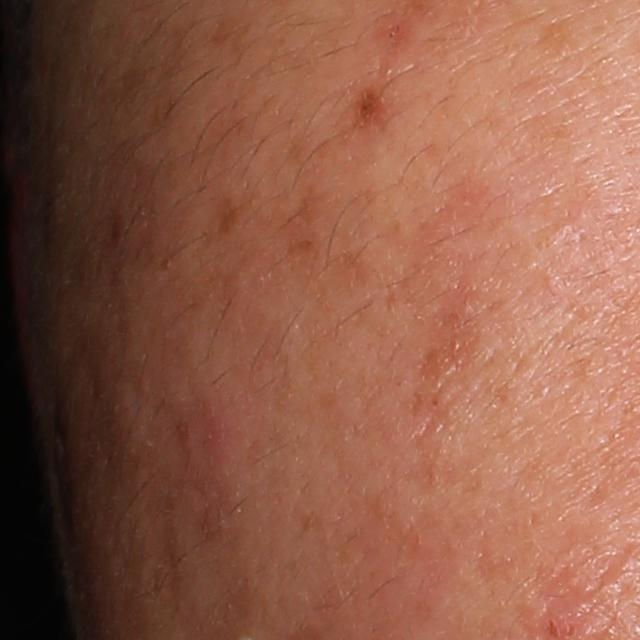atrophic_scar: (129, 413, 194, 606)
melasma: (280, 134, 396, 311), (210, 195, 264, 242)
papule: (196, 389, 246, 473)
